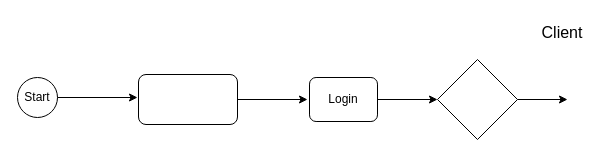
The diagram is 610 pixels wide and 157 high, and some of its shapes have lost their labels. The shapes that lost their labels are listed below. From the top down, each one's centre as x and y in pixels, then its label:
At point (188, 99): "Homepage (Not registered)".
At point (477, 99): "Register?".
